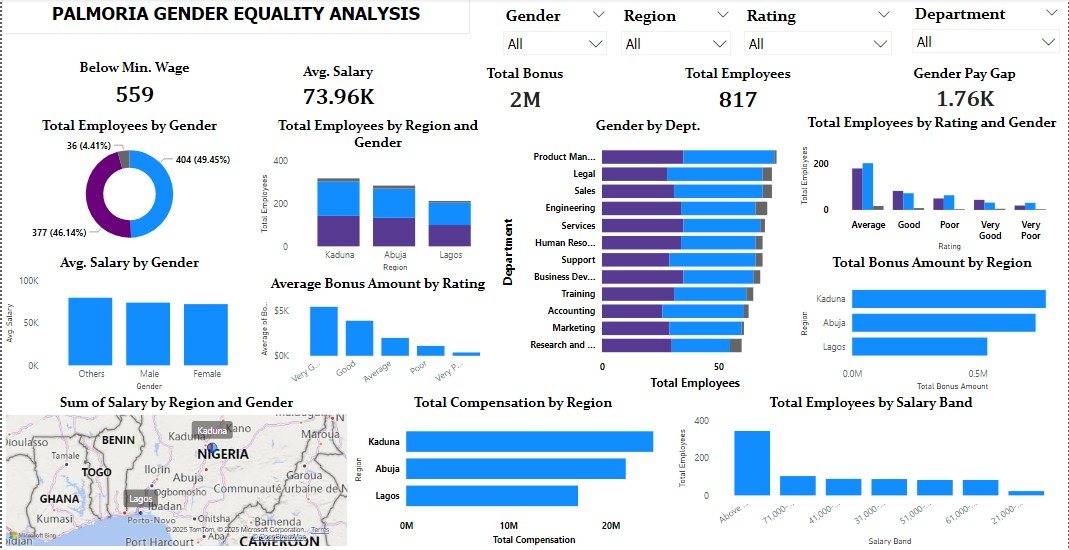

Layout of this report page (visuals, bound fields, positions):
{"tool":"powerbi","page":{"name":"Page 1","canvas":[1350,800],"ordinal":0},"visuals":[{"type":"donutChart","fields":{"Category":["Employee.Gender"],"Y":["Employee.Total Employees"]},"box":[0,210,306.7,190],"z":0},{"type":"columnChart","fields":{"Category":["Employee.Region"],"Y":["Employee.Total Employees"],"Series":["Employee.Gender"]},"box":[306.7,210,320,190],"z":1000},{"type":"barChart","title":"Gender by Dept.","fields":{"Category":["Employee.Department"],"Y":["Employee.Total Employees"],"Series":["Employee.Gender"]},"box":[943.3,206.7,406.7,315],"z":2000},{"type":"clusteredColumnChart","fields":{"Category":["Employee.Rating"],"Y":["Employee.Total Employees"],"Series":["Employee.Gender"]},"box":[626.7,208.3,316.7,191.7],"z":3000},{"type":"clusteredColumnChart","fields":{"Y":["Employee.Avg. Salary"],"Category":["Employee.Gender"]},"box":[0,400,276.7,198.3],"z":4000},{"type":"map","fields":{"Category":["Employee.Region"],"Size":["Employee.Total Employees"]},"box":[943.3,521.7,406.7,278.3],"z":5000},{"type":"card","title":"Total Bonus","fields":{"Values":["Employee.Total Bonus Amount"]},"box":[364.4,143.7,149.5,68.2],"z":6000},{"type":"barChart","fields":{"Y":["Employee.Total Bonus Amount"],"Category":["Employee.Region"]},"box":[276.7,400,315,201.7],"z":7000},{"type":"clusteredColumnChart","title":"Average Bonus Amount by Rating","fields":{"Category":["Employee.Rating"],"Y":["Avg(Employee.Bonus Amount)"]},"box":[0,591.7,386.7,208.3],"z":8000},{"type":"clusteredBarChart","fields":{"Y":["Employee.Total Compensation"],"Category":["Employee.Region"]},"box":[591.7,400,351.7,201.7],"z":9000},{"type":"card","title":"Avg. Salary","fields":{"Values":["Employee.Avg. Salary"]},"box":[217.8,145.2,146.6,66.8],"z":10000},{"type":"card","title":"Gender Pay Gap","fields":{"Values":["Employee.Gender Pay Gap"]},"box":[696.9,143.7,177.1,66.8],"z":11000},{"type":"card","title":"Below Min. Wage ","fields":{"Values":["Employee.Below MIN."]},"box":[11.6,140.8,206.2,72.6],"z":12000},{"type":"card","title":"Total Employees","fields":{"Values":["Employee.Total Employees"]},"box":[514,143.7,182.9,68.2],"z":13000},{"type":"slicer","fields":{"Values":["Employee.Region"]},"box":[982.9,0,146.6,142.3],"z":14000},{"type":"slicer","fields":{"Values":["Employee.Department"]},"box":[1129.6,2.9,220.7,79.9],"z":15000},{"type":"slicer","fields":{"Values":["Employee.Rating"]},"box":[1129.6,82.8,220.7,78.4],"z":16000},{"type":"slicer","fields":{"Values":["Employee.Gender"]},"box":[834.8,0,148.1,140.8],"z":17000},{"type":"lineChart","fields":{"Category":["Employee.Salary Band"],"Y":["Employee.Total Employees"]},"box":[386.7,601.7,556.7,198.3],"z":18000},{"type":"textbox","box":[0,0,785.5,122],"z":19000}]}

Visuals, with their boxes on the page's 1350x800 design canvas (x1, y1, x2, y2). These are canvas units, not pixel positions in the 1069x550 screenshot, which may show the page scaled, cropped or inside an application window:
donutChart - Employee.Gender x Employee.Total Employees: {"left": 0, "top": 210, "right": 307, "bottom": 400}
columnChart - Employee.Region x Employee.Total Employees: {"left": 307, "top": 210, "right": 627, "bottom": 400}
"Gender by Dept." barChart: {"left": 943, "top": 207, "right": 1350, "bottom": 522}
clusteredColumnChart - Employee.Rating x Employee.Total Employees: {"left": 627, "top": 208, "right": 943, "bottom": 400}
clusteredColumnChart - Employee.Avg. Salary x Employee.Gender: {"left": 0, "top": 400, "right": 277, "bottom": 598}
map - Employee.Region x Employee.Total Employees: {"left": 943, "top": 522, "right": 1350, "bottom": 800}
"Total Bonus" card: {"left": 364, "top": 144, "right": 514, "bottom": 212}
barChart - Employee.Total Bonus Amount x Employee.Region: {"left": 277, "top": 400, "right": 592, "bottom": 602}
"Average Bonus Amount by Rating" clusteredColumnChart: {"left": 0, "top": 592, "right": 387, "bottom": 800}
clusteredBarChart - Employee.Total Compensation x Employee.Region: {"left": 592, "top": 400, "right": 943, "bottom": 602}
"Avg. Salary" card: {"left": 218, "top": 145, "right": 364, "bottom": 212}
"Gender Pay Gap" card: {"left": 697, "top": 144, "right": 874, "bottom": 210}
"Below Min. Wage " card: {"left": 12, "top": 141, "right": 218, "bottom": 213}
"Total Employees" card: {"left": 514, "top": 144, "right": 697, "bottom": 212}
slicer - Employee.Region: {"left": 983, "top": 0, "right": 1130, "bottom": 142}
slicer - Employee.Department: {"left": 1130, "top": 3, "right": 1350, "bottom": 83}
slicer - Employee.Rating: {"left": 1130, "top": 83, "right": 1350, "bottom": 161}
slicer - Employee.Gender: {"left": 835, "top": 0, "right": 983, "bottom": 141}
lineChart - Employee.Salary Band x Employee.Total Employees: {"left": 387, "top": 602, "right": 943, "bottom": 800}
textbox: {"left": 0, "top": 0, "right": 786, "bottom": 122}
